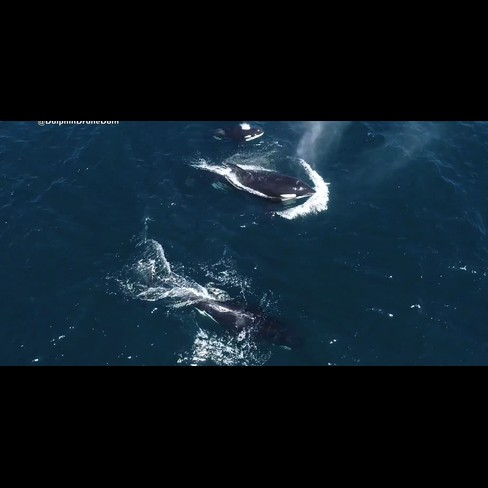orca: (181, 150, 337, 204), (202, 123, 275, 144)
